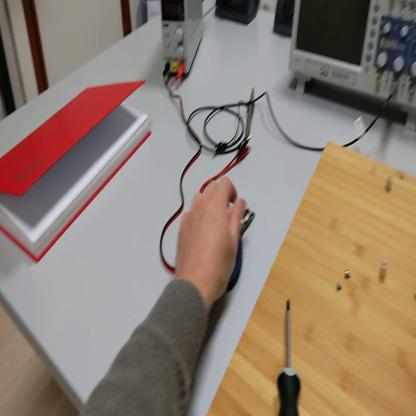hand: (177, 178, 244, 305)
oscilloscope: (289, 1, 415, 126)
oscilloscope probe tip: (246, 89, 255, 143)
pliers: (232, 206, 257, 288)
power supply: (161, 2, 206, 75)
register: (1, 80, 153, 264)
screwdriver-: (277, 296, 301, 415)
socket: (216, 2, 262, 26), (273, 1, 296, 39)
working area: (210, 144, 416, 416)
